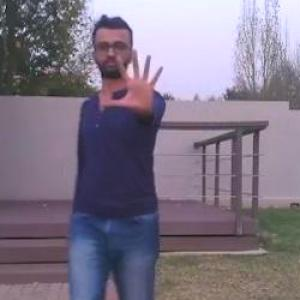follow_hand: (97, 46, 167, 114)
